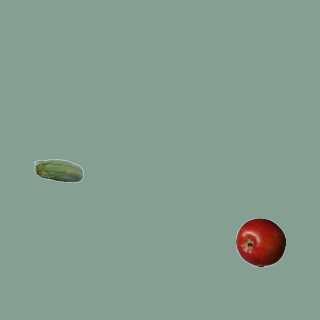Apple Braeburn: (235, 217, 285, 267)
Corn Husk: (33, 147, 83, 197)
